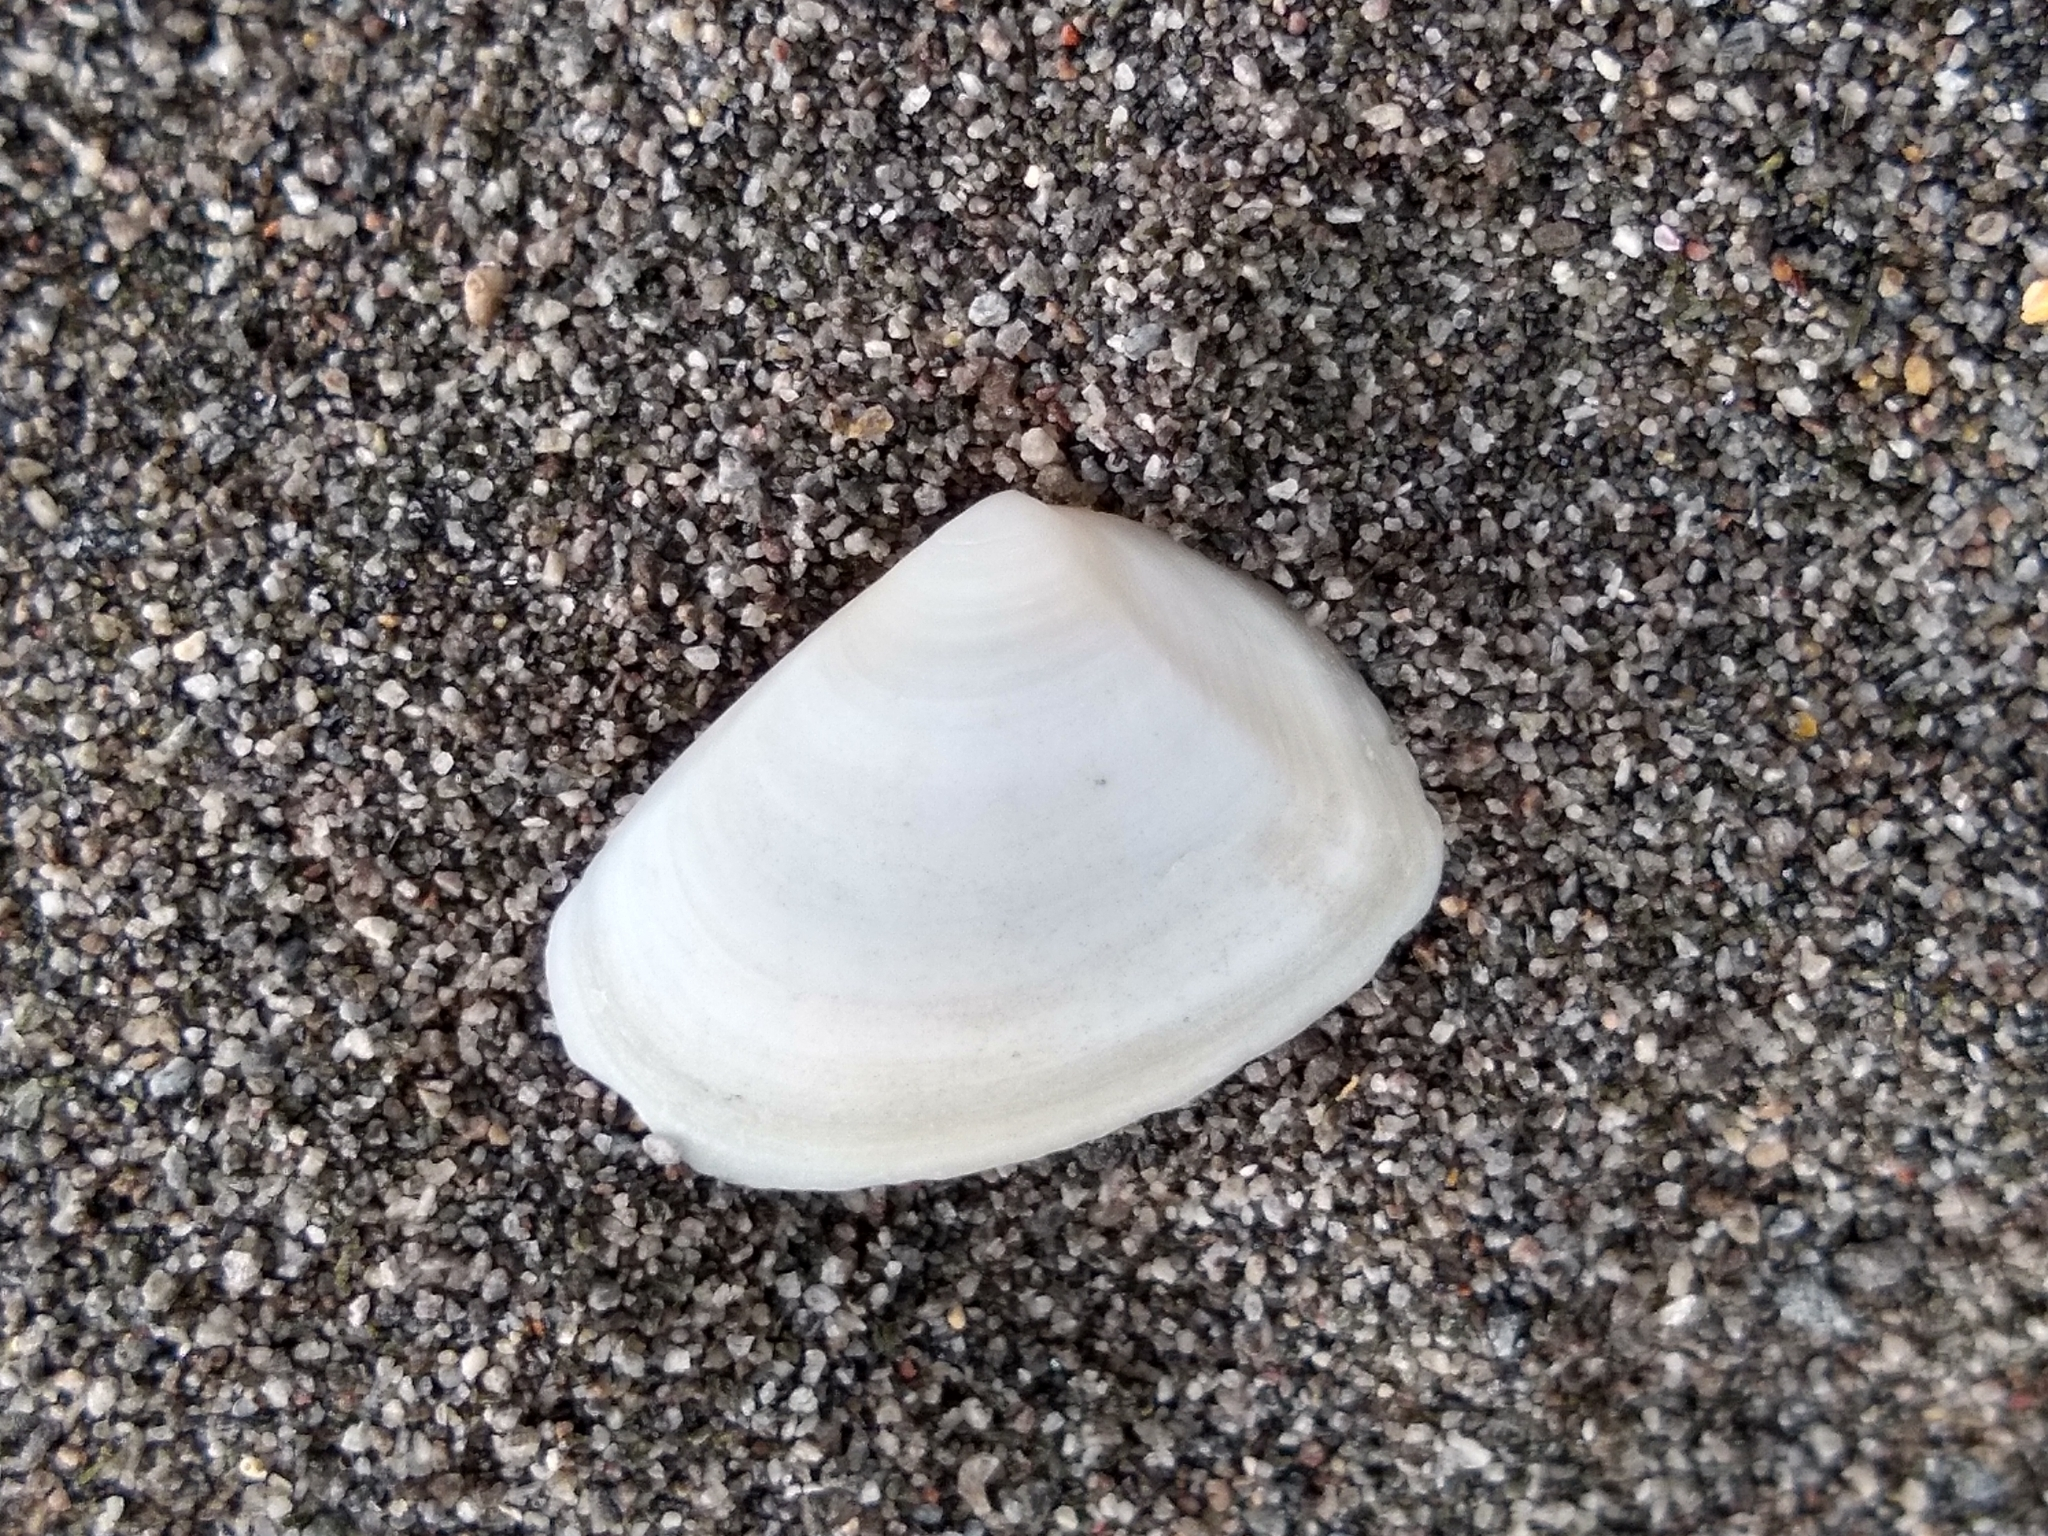tuatua: (511, 458, 1455, 1200)
